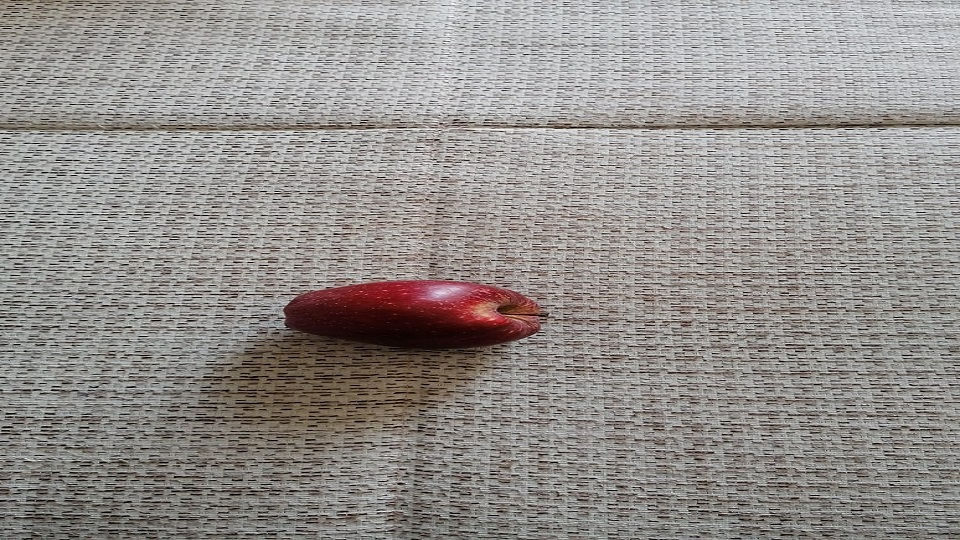elma: (281, 279, 552, 353)
